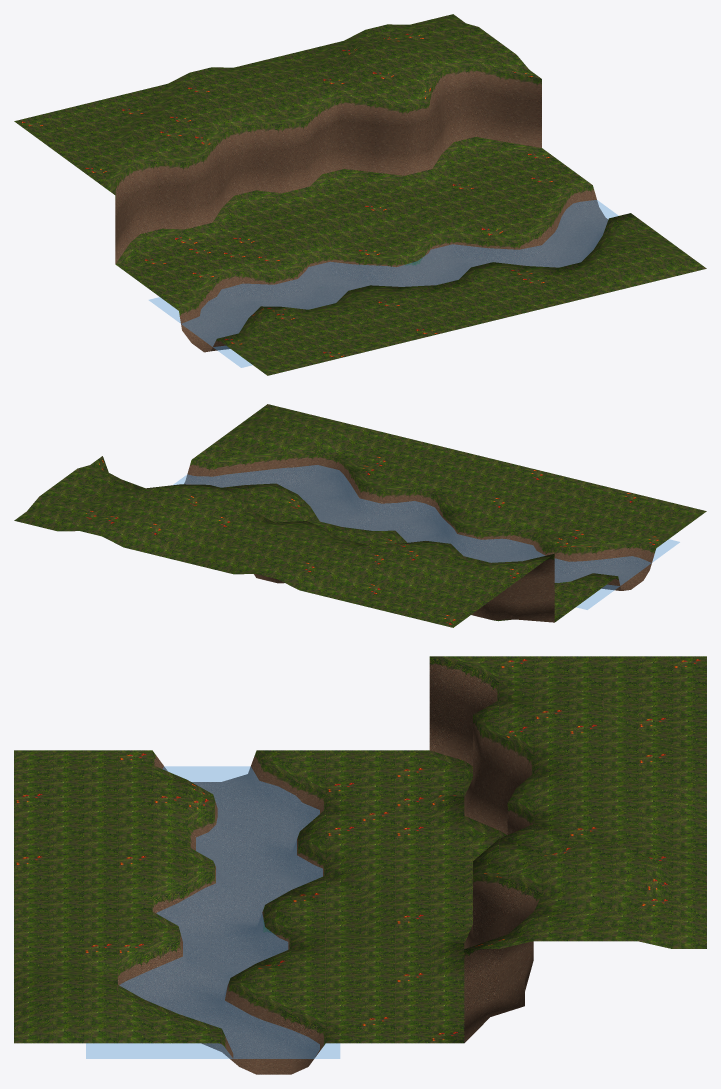
File: nature_scene_trimSheets.glb
The picture shows the model from 3 angles, top to bottom: view 1: azimuth 30°, elevation 25°; view 2: azimuth 150°, elevation 25°; view 3: azimuth 270°, elevation 25°; orthographic projection. The views are drawn at different scales.
Parts seen in each view (by area): view 1: Scene; view 2: Scene; view 3: Scene.
Boxes of the visible parts, left/top/right/bottom form: Scene: left=14, top=14, right=706, bottom=375; Scene: left=14, top=404, right=706, bottom=627; Scene: left=14, top=656, right=706, bottom=1074.
Bounding box in the file's own units: 20 × 4.75 × 20.
2 materials, 1 textured.
